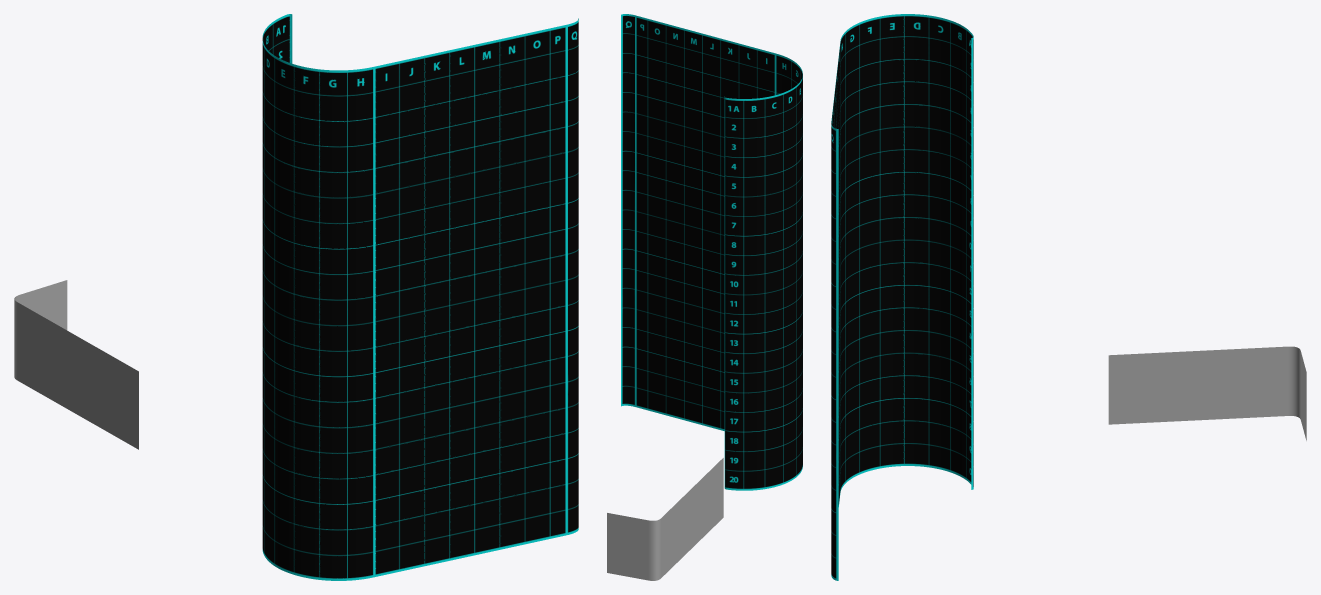
Rendered from Previz_3Dworld_BasicMapping.glb.
3 renders of one model, left to right at view 1: azimuth 30°, elevation 25°; view 2: azimuth 150°, elevation 25°; view 3: azimuth 270°, elevation 25°, orthographic. The views are drawn at different scales.
Visible parts, largest first — view 1: LUUX_Front_3Dworld_Basic, ILMIN_Back_3Dworld_Basic; view 2: LUUX_Front_3Dworld_Basic, ILMIN_Back_3Dworld_Basic; view 3: LUUX_Front_3Dworld_Basic, ILMIN_Back_3Dworld_Basic.
Boxes of the visible parts, x1,y1,x2,y2 form: LUUX_Front_3Dworld_Basic: [262, 14, 578, 580]; ILMIN_Back_3Dworld_Basic: [14, 280, 138, 449]; LUUX_Front_3Dworld_Basic: [621, 14, 802, 490]; ILMIN_Back_3Dworld_Basic: [607, 458, 723, 580]; LUUX_Front_3Dworld_Basic: [831, 14, 973, 580]; ILMIN_Back_3Dworld_Basic: [1108, 346, 1306, 440].
Size of the model in its own units: 3.77 by 6 by 5.72.
2 materials, 1 textured.
